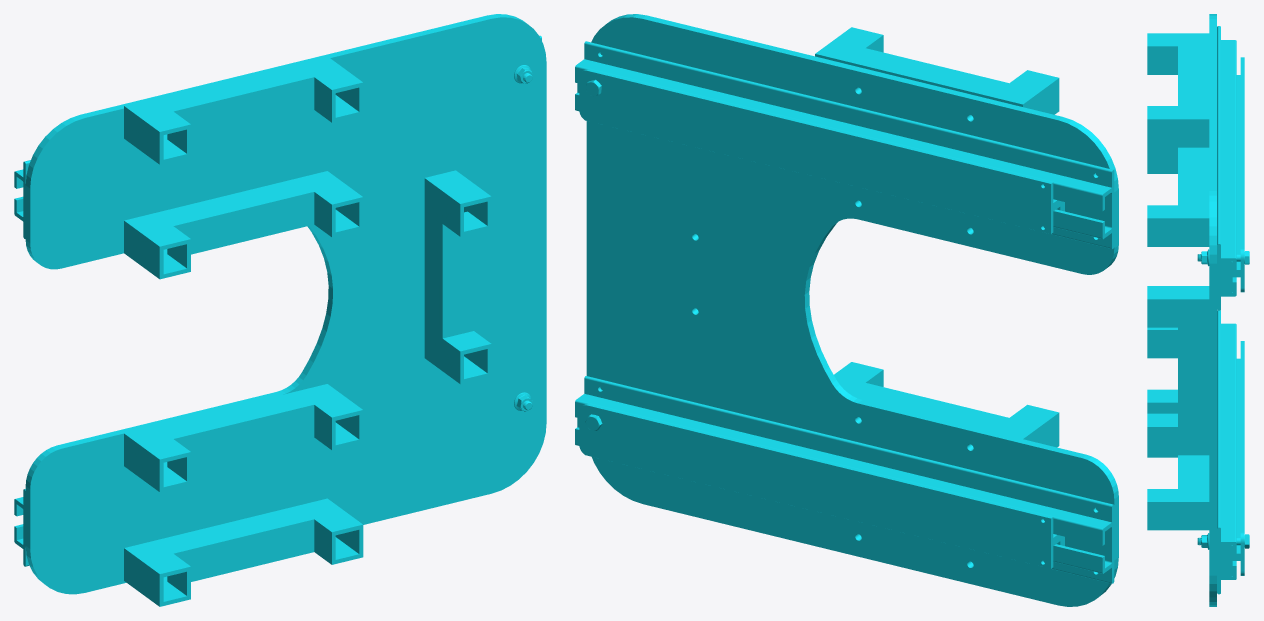
File: liaison.dae
3 renders of one model, left to right at view 1: azimuth 30°, elevation 25°; view 2: azimuth 150°, elevation 25°; view 3: azimuth 270°, elevation 25°, orthographic. The views are drawn at different scales.
Visible parts, largest first — view 1: Liaison; view 2: Liaison; view 3: Liaison.
Part boxes in pixels (x1=…): Liaison: x1=14, y1=14, x2=546, y2=606; Liaison: x1=575, y1=14, x2=1118, y2=606; Liaison: x1=1147, y1=14, x2=1249, y2=606.
Size of the model in its own units: 0.66 by 0.1304 by 0.5831.
